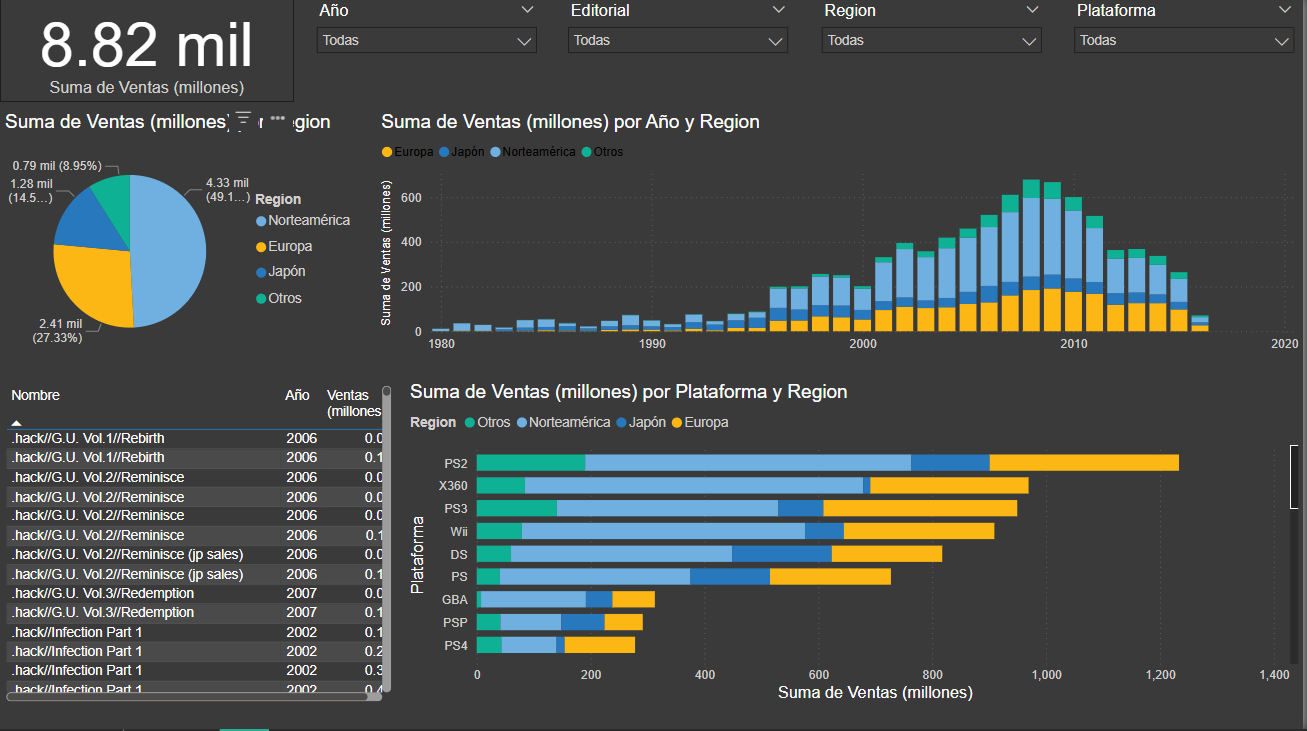

This screenshot's page, from the dashboard's own definition file:
{"tool":"powerbi","page":{"name":"Ventas","canvas":[1280,720],"ordinal":0},"visuals":[{"type":"tableEx","fields":{"Values":["Ventas Videojuegos.Nombre","Ventas Videojuegos.Año","Ventas Videojuegos.Ventas (millones)"]},"box":[0,378.2,389.4,319.7],"z":0},{"type":"columnChart","fields":{"Category":["Ventas Videojuegos.Año"],"Y":["Sum(Ventas Videojuegos.Ventas (millones))"],"Series":["Ventas Videojuegos.Region"]},"box":[369.5,113.2,910.6,255],"z":1000},{"type":"pieChart","fields":{"Category":["Ventas Videojuegos.Region"],"Y":["Sum(Ventas Videojuegos.Ventas (millones))"]},"box":[0,113.2,358.3,255],"z":2000},{"type":"barChart","fields":{"Y":["Sum(Ventas Videojuegos.Ventas (millones))"],"Series":["Ventas Videojuegos.Region"],"Category":["Ventas Videojuegos.Plataforma"]},"box":[398.1,378.2,882,319.7],"z":3000},{"type":"slicer","fields":{"Values":["Ventas Videojuegos.Año"]},"box":[301,0,236.4,104.5],"z":4003},{"type":"card","fields":{"Values":["Sum(Ventas Videojuegos.Ventas (millones))"]},"box":[0,0,288.6,104.5],"z":4004},{"type":"slicer","fields":{"Values":["Ventas Videojuegos.Editorial"]},"box":[547.3,0,236.4,104.5],"z":4005},{"type":"slicer","fields":{"Values":["Ventas Videojuegos.Plataforma"]},"box":[1043.7,0,236.4,104.5],"z":4006},{"type":"slicer","fields":{"Values":["Ventas Videojuegos.Region"]},"box":[796.1,0,236.4,104.5],"z":4007}]}

Visuals, with their boxes in screenshot pixels (x1, y1, x2, y2), scaled from the page's 1280x720 canvas onto the 1307x731 screenshot:
tableEx - Ventas Videojuegos.Nombre x Ventas Videojuegos.Año: 0,384,398,709
columnChart - Ventas Videojuegos.Año x Sum(Ventas Videojuegos.Ventas (millones)): 377,115,1306,374
pieChart - Ventas Videojuegos.Region x Sum(Ventas Videojuegos.Ventas (millones)): 0,115,366,374
barChart - Sum(Ventas Videojuegos.Ventas (millones)) x Ventas Videojuegos.Region: 406,384,1306,709
slicer - Ventas Videojuegos.Año: 307,0,549,106
card - Sum(Ventas Videojuegos.Ventas (millones)): 0,0,295,106
slicer - Ventas Videojuegos.Editorial: 559,0,800,106
slicer - Ventas Videojuegos.Plataforma: 1066,0,1306,106
slicer - Ventas Videojuegos.Region: 813,0,1054,106
